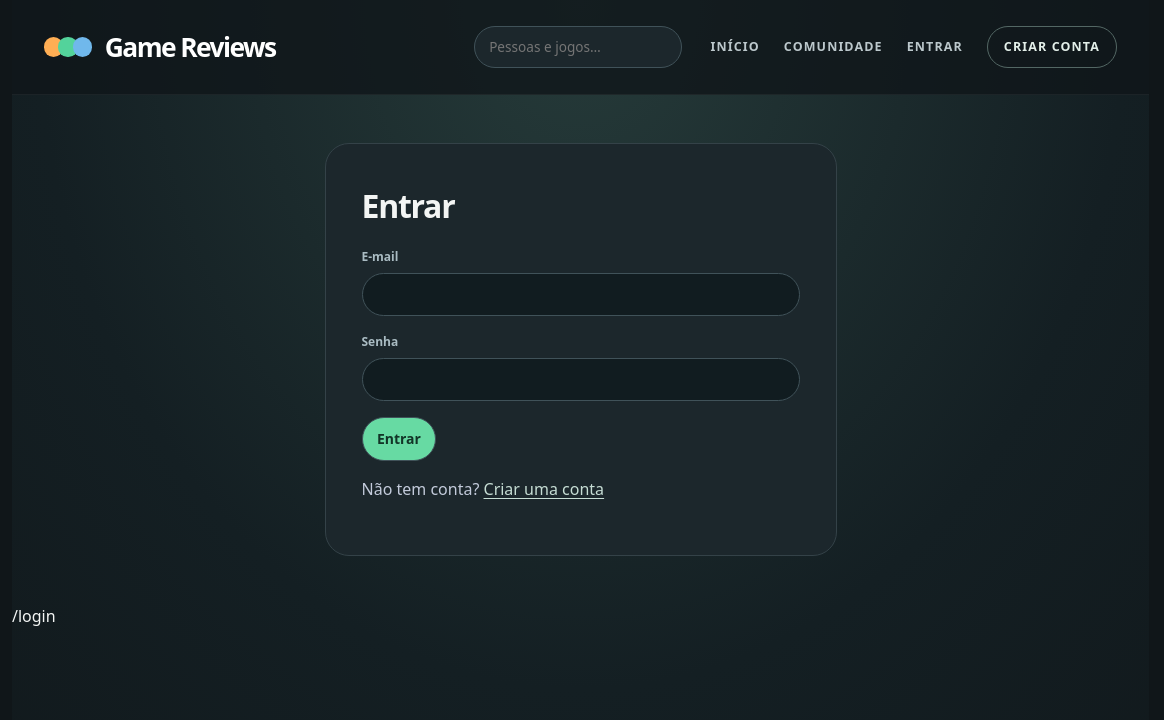
Escape fecha e invalida consulta pendente sem reabrir por resposta tardia
Type "mario" into the dropdown named "Buscar pessoas e jogos" at (578, 47), box left=474, top=26, right=682, bottom=68
Wait 300 ms
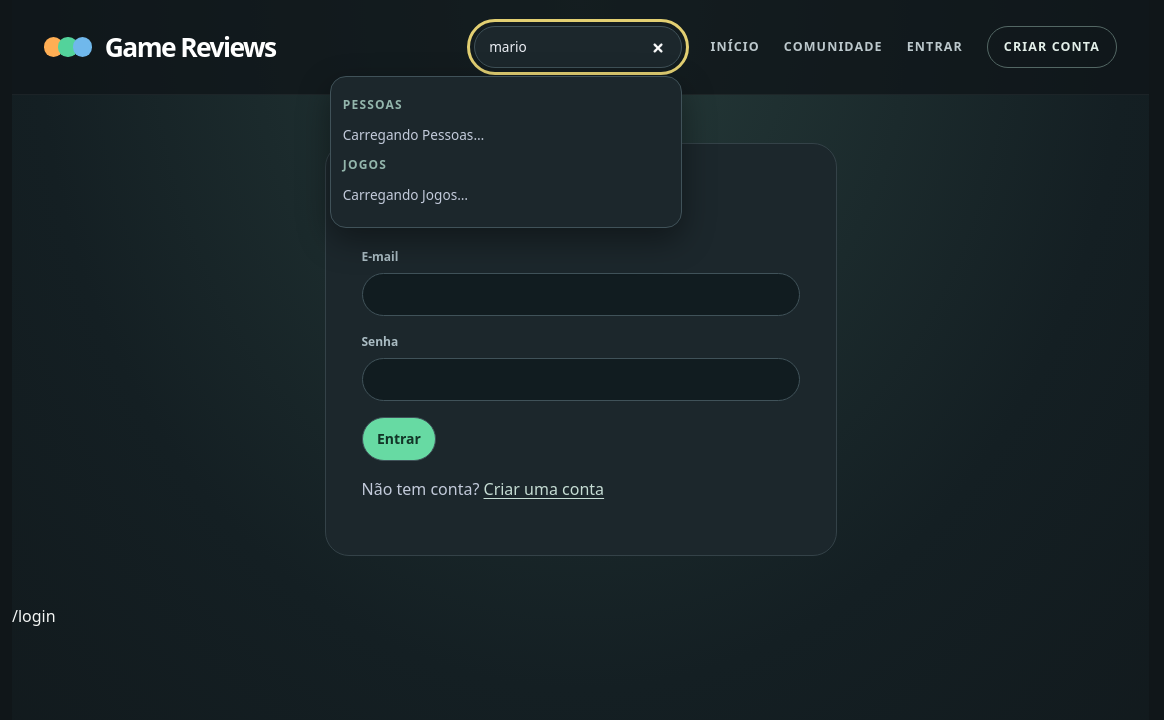
Press Escape
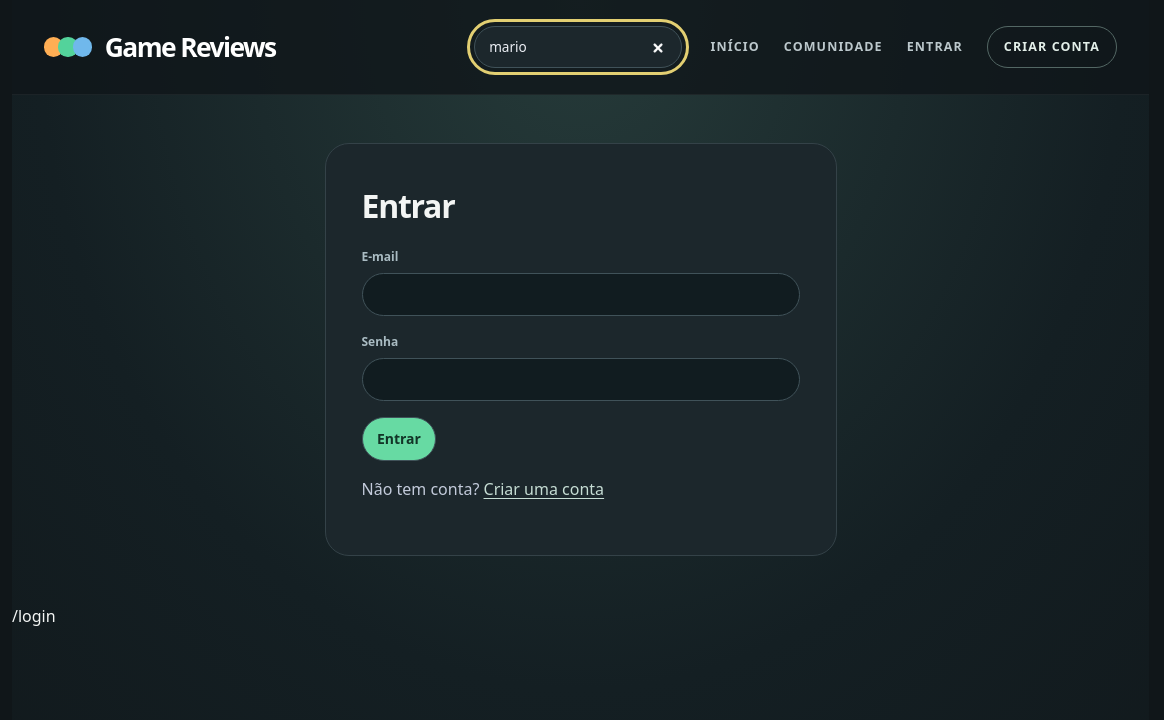
Expected: the list is gone
